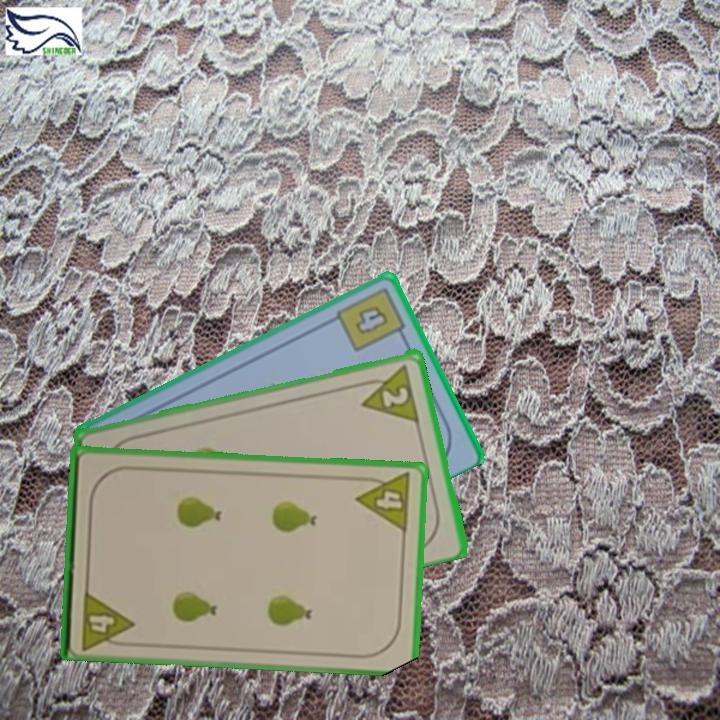2p: (353, 360, 423, 424)
4b: (332, 283, 410, 355)
4p: (353, 469, 414, 535), (78, 586, 136, 651)
